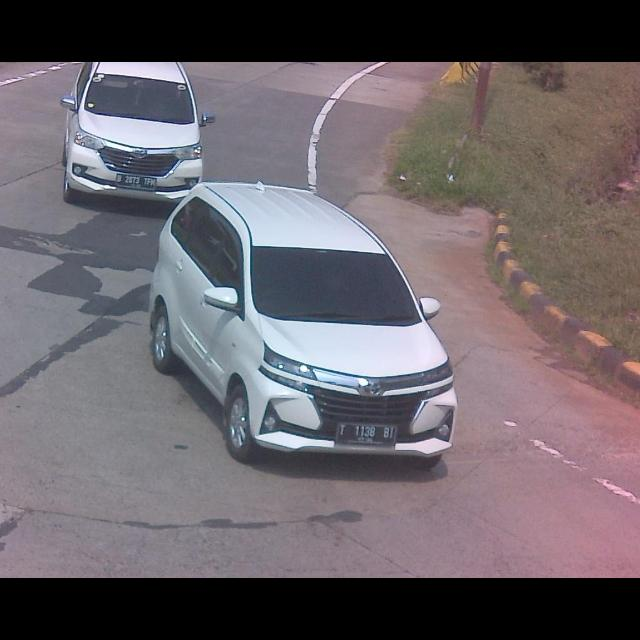plate: (338, 420, 396, 448)
